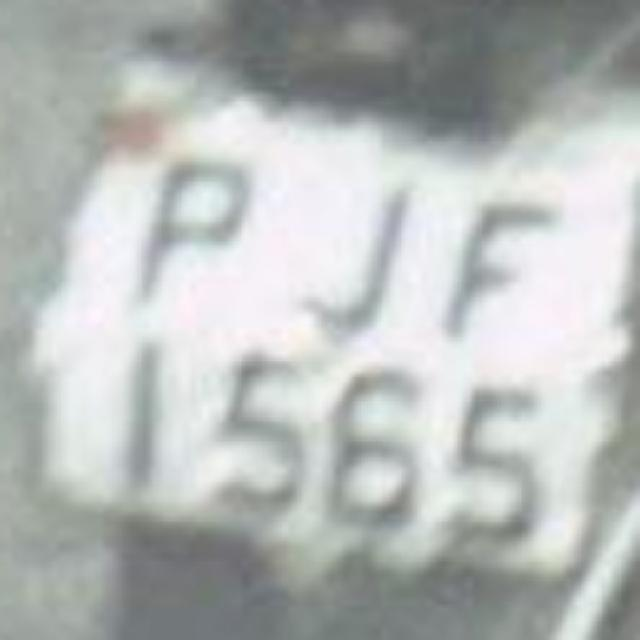1: (80, 308, 195, 500)
5: (412, 368, 572, 560), (184, 340, 331, 515)
6: (308, 336, 440, 564)
F: (432, 160, 568, 375)
J: (268, 160, 420, 345)
P: (116, 135, 269, 340)
